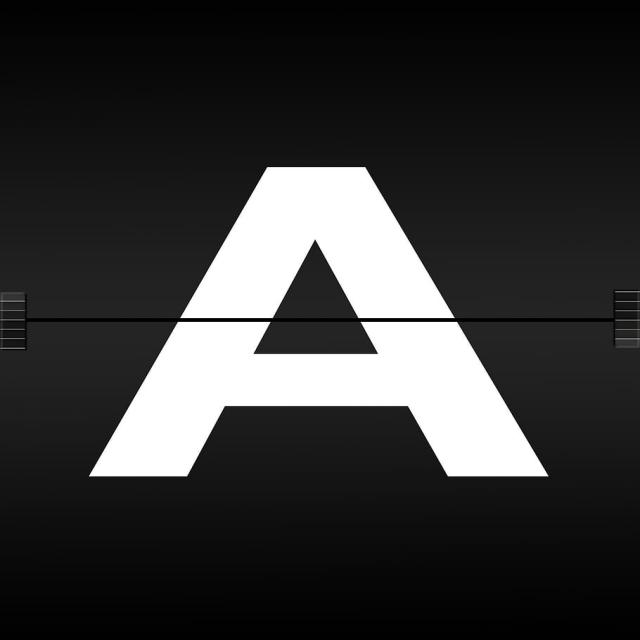A: (55, 68, 543, 552)
